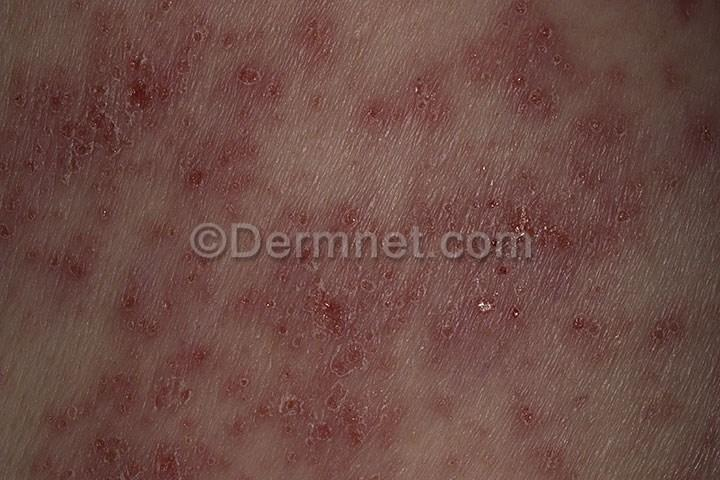Eczema: (9, 73, 121, 184), (485, 3, 581, 130), (280, 370, 395, 470), (572, 8, 654, 141), (393, 268, 492, 369), (52, 353, 157, 436), (381, 181, 482, 266), (283, 296, 390, 376), (491, 372, 570, 480), (295, 199, 377, 298), (23, 416, 145, 480), (483, 162, 562, 260), (415, 374, 502, 461), (488, 250, 574, 338), (133, 3, 244, 70), (223, 220, 297, 318), (105, 52, 190, 135), (403, 64, 477, 158), (571, 135, 639, 234), (567, 306, 647, 390), (271, 9, 371, 73), (313, 72, 399, 146), (662, 0, 714, 120), (151, 329, 232, 406), (246, 116, 312, 205), (635, 153, 703, 239), (151, 407, 230, 480), (162, 134, 247, 201), (205, 366, 278, 444), (643, 290, 706, 376), (166, 236, 229, 321), (565, 231, 645, 296), (33, 228, 109, 294), (100, 268, 164, 345), (230, 56, 306, 119), (642, 380, 704, 451), (76, 184, 136, 252), (0, 188, 47, 250), (75, 0, 129, 52), (691, 112, 720, 174)
